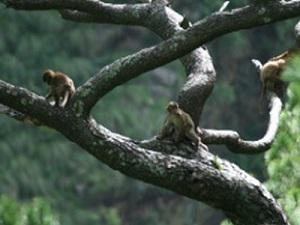monkey: (139, 96, 206, 156), (245, 51, 291, 121), (34, 59, 86, 119)
